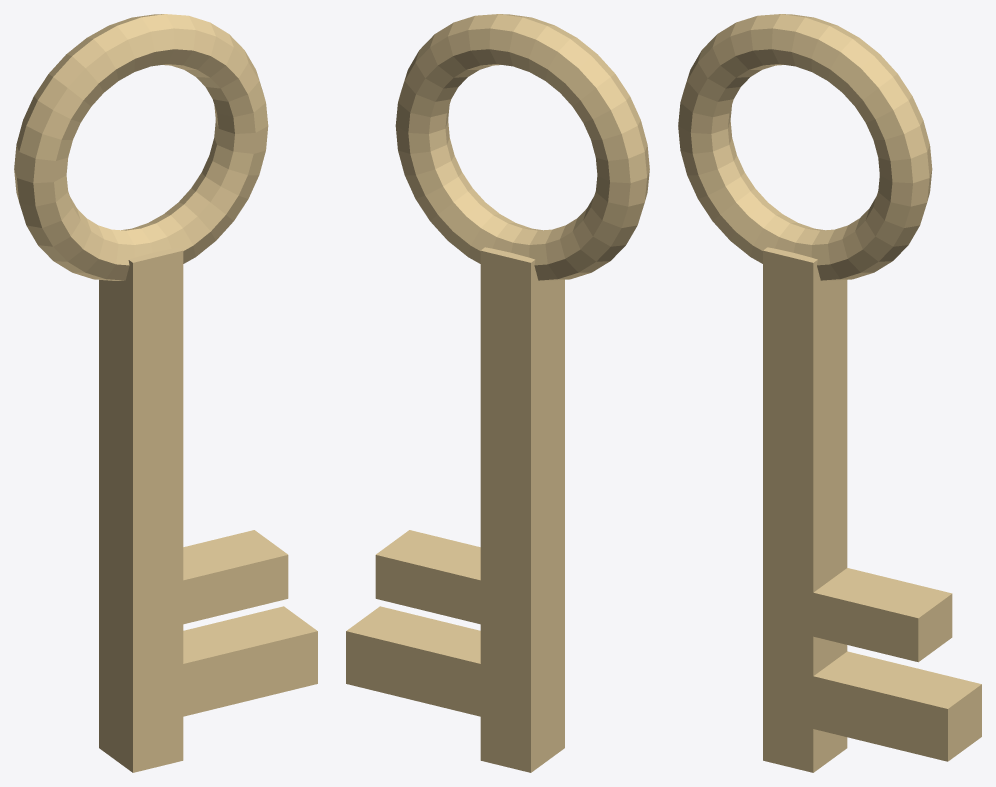
Rendered from ACC_Key_Charm.glb.
The picture shows the model from 3 angles, left to right: view 1: azimuth 30°, elevation 25°; view 2: azimuth 150°, elevation 25°; view 3: azimuth 330°, elevation 25°; orthographic projection.
Parts seen in each view (by area): view 1: ACC_Key_Charm_2, ACC_Key_Charm_1, ACC_Key_Charm_3, ACC_Key_Charm_4; view 2: ACC_Key_Charm_2, ACC_Key_Charm_1, ACC_Key_Charm_3, ACC_Key_Charm_4; view 3: ACC_Key_Charm_2, ACC_Key_Charm_1, ACC_Key_Charm_3, ACC_Key_Charm_4.
Boxes of the visible parts, x1,y1,x2,y2 form: ACC_Key_Charm_2: (99,247,183,772); ACC_Key_Charm_1: (14,14,268,280); ACC_Key_Charm_3: (167,606,317,716); ACC_Key_Charm_4: (147,530,288,628); ACC_Key_Charm_2: (480,247,564,772); ACC_Key_Charm_1: (395,14,649,280); ACC_Key_Charm_3: (346,606,510,717); ACC_Key_Charm_4: (375,530,505,629); ACC_Key_Charm_2: (763,247,847,772); ACC_Key_Charm_1: (678,14,932,280); ACC_Key_Charm_3: (779,651,981,761); ACC_Key_Charm_4: (775,568,952,662).
Bounding box in the file's own units: 0.0338 × 0.0838 × 0.007.
